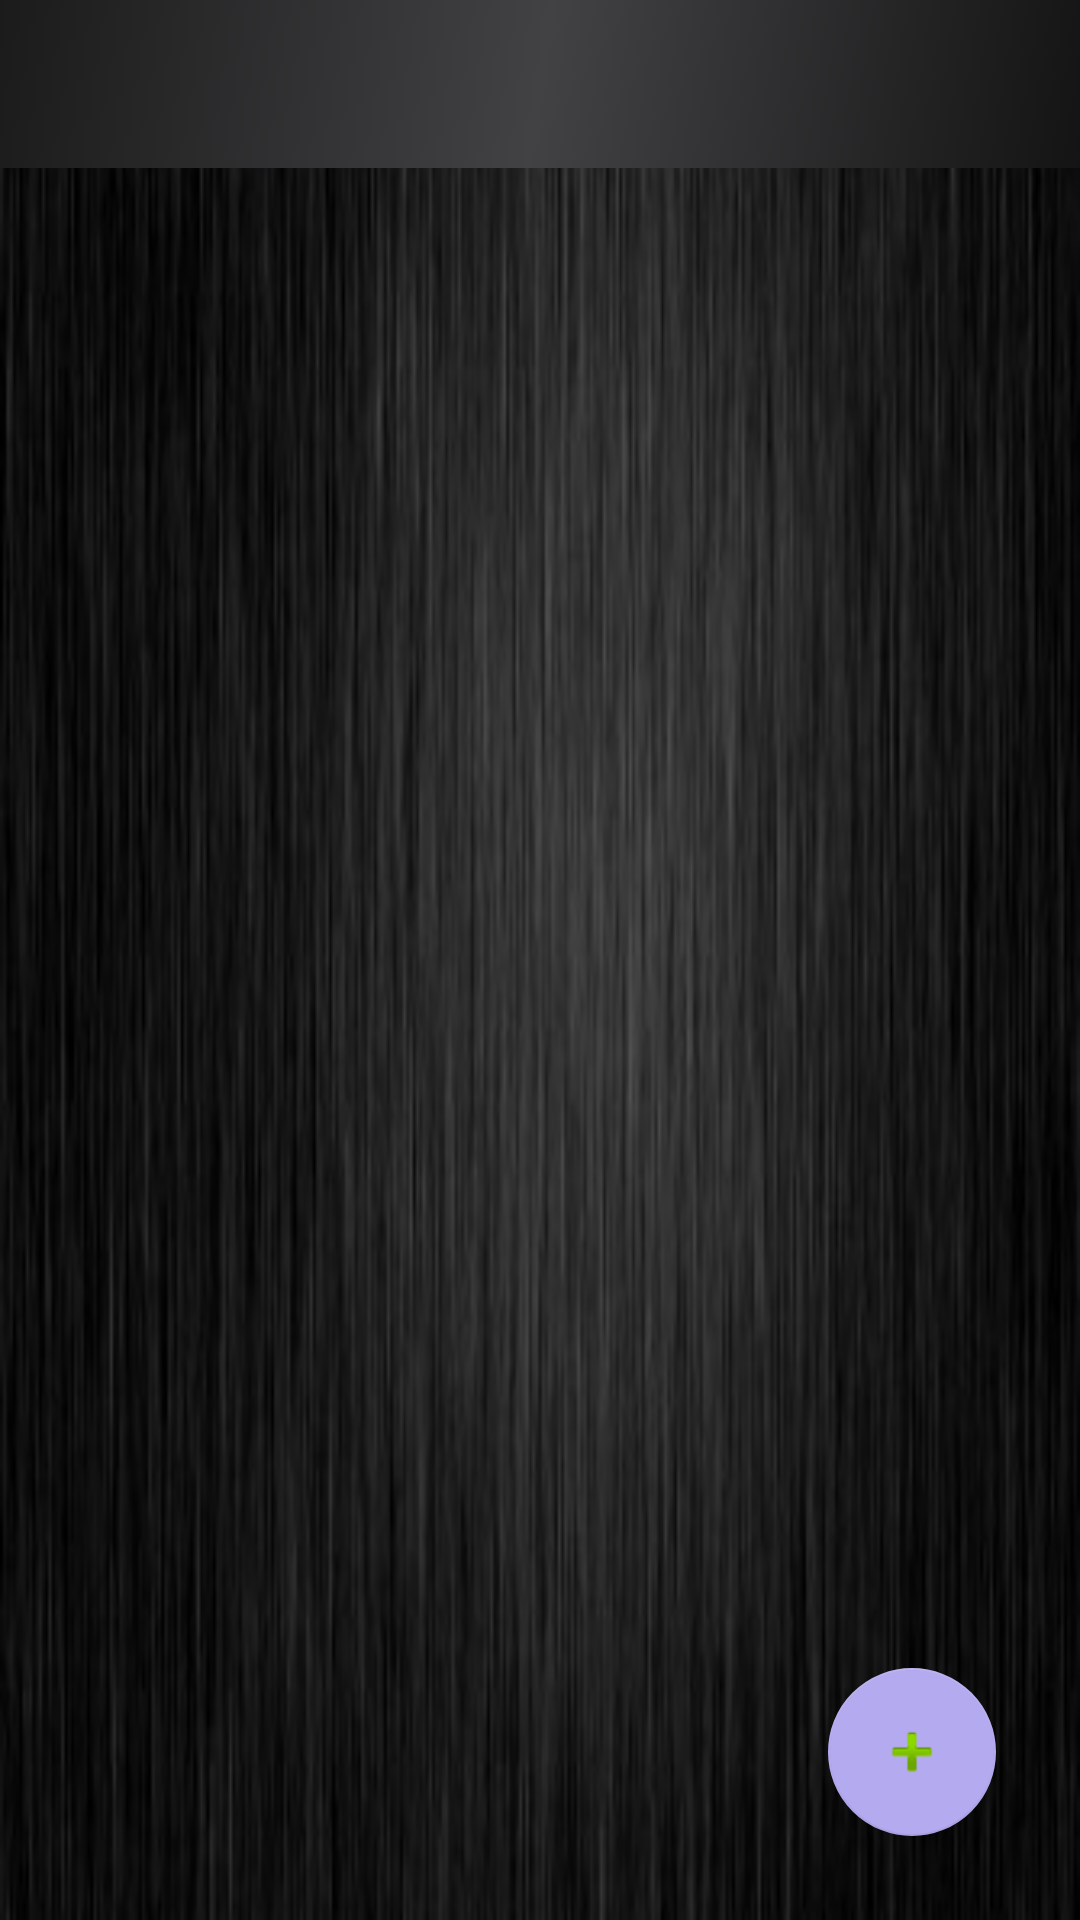

Icons on this 1080 × 1920 Android screen, each with the point to tap as (x,y):
add: (912,1752)
